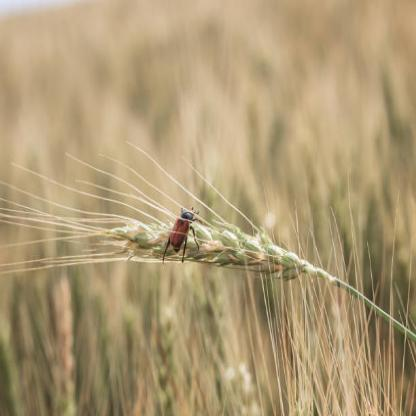sawfly: (161, 200, 201, 262)
